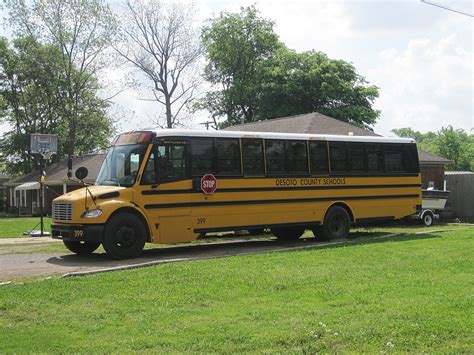bus: (58, 132, 422, 237)
